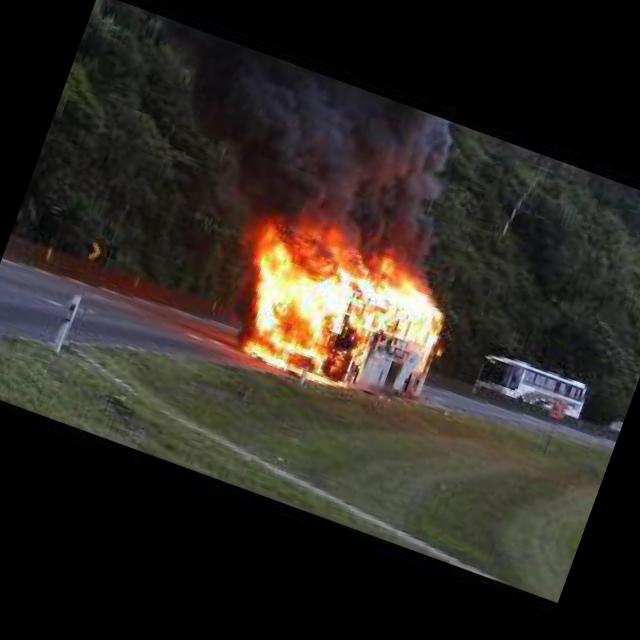fire: (211, 206, 473, 428)
smoke: (231, 61, 496, 288)
